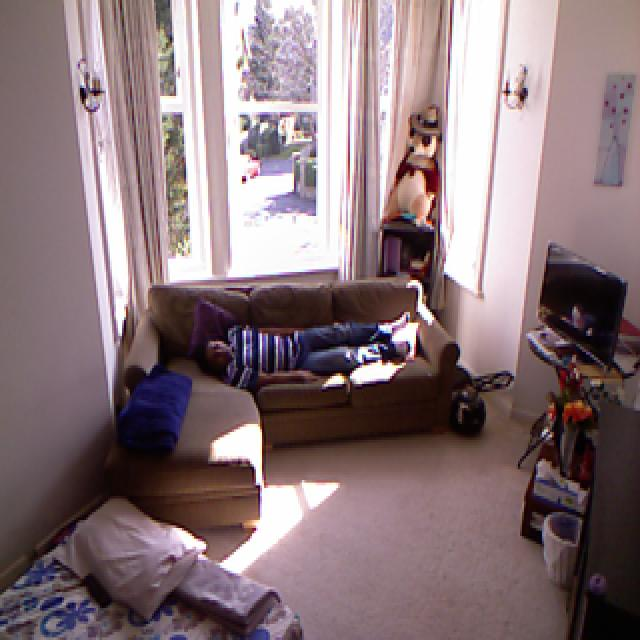lying: (192, 314, 422, 387)
